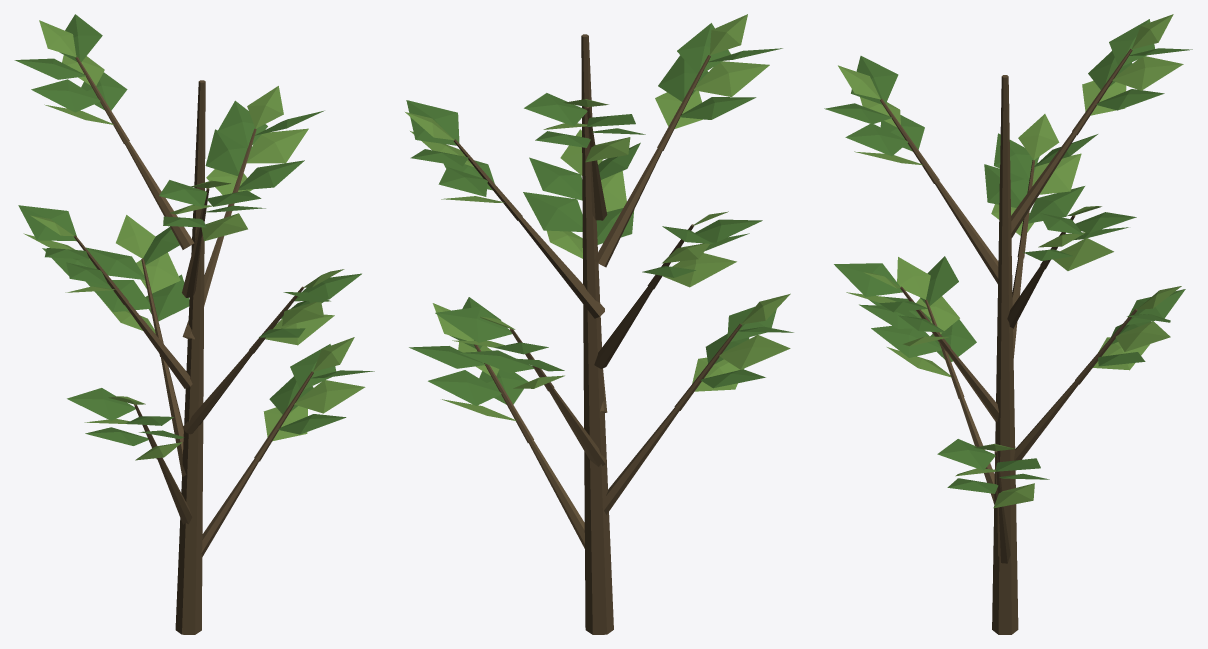
File: sapling_lod0.gltf
3 renders of one model, left to right at view 1: azimuth 30°, elevation 25°; view 2: azimuth 150°, elevation 25°; view 3: azimuth 270°, elevation 25°, orthographic. The views are drawn at different scales.
Parts seen in each view (by area): view 1: sapling_original_lod0; view 2: sapling_original_lod0; view 3: sapling_original_lod0.
Part boxes in pixels (bbox=[...]): sapling_original_lod0: bbox=[14, 14, 374, 634]; sapling_original_lod0: bbox=[405, 14, 793, 634]; sapling_original_lod0: bbox=[824, 14, 1192, 634].
Bounding box in the file's own units: 0.95 × 1.65 × 0.95.
